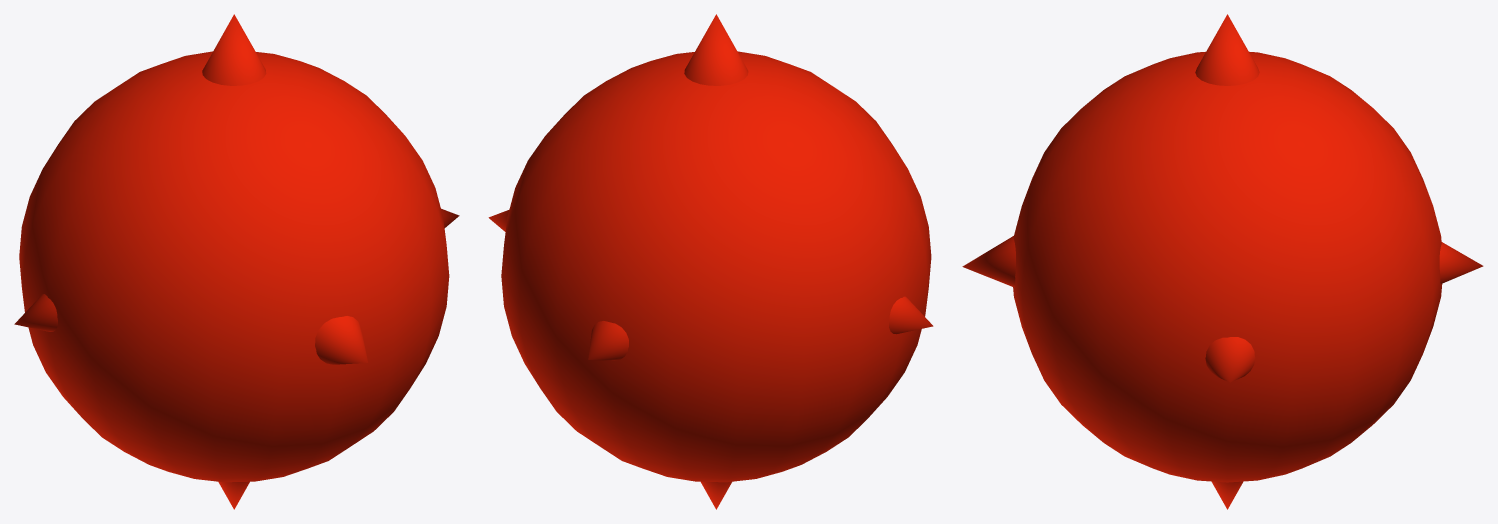
The model's file is bomb 1.fbx.
3 views of the same model, side by side, from view 1: azimuth 30°, elevation 25°; view 2: azimuth 150°, elevation 25°; view 3: azimuth 270°, elevation 25° (orthographic).
Parts seen in each view (by area): view 1: pSphere1, pCone1, pasted__pasted__pCone1, pasted__pasted__pasted__pCone1; view 2: pSphere1, pCone1, pasted__pCone1, pasted__pasted__pasted__pCone1; view 3: pSphere1, pasted__pasted__pCone1 (×2), pCone1, pasted__pCone1.
Part boxes in pixels (<box>): pSphere1: <box>19,51,449,482</box>; pCone1: <box>202,14,266,85</box>; pasted__pasted__pCone1: <box>315,316,367,364</box>; pasted__pasted__pasted__pCone1: <box>14,294,57,331</box>; pSphere1: <box>501,51,931,482</box>; pCone1: <box>684,14,748,85</box>; pasted__pCone1: <box>588,321,628,360</box>; pasted__pasted__pasted__pCone1: <box>889,296,933,334</box>; pSphere1: <box>1013,51,1442,482</box>; pasted__pasted__pCone1 (×2): <box>962,236,1255,382</box>; pCone1: <box>1195,14,1259,85</box>; pasted__pCone1: <box>1439,242,1483,283</box>.
Size of the model in its own units: 1.19 by 1.27 by 1.21.
